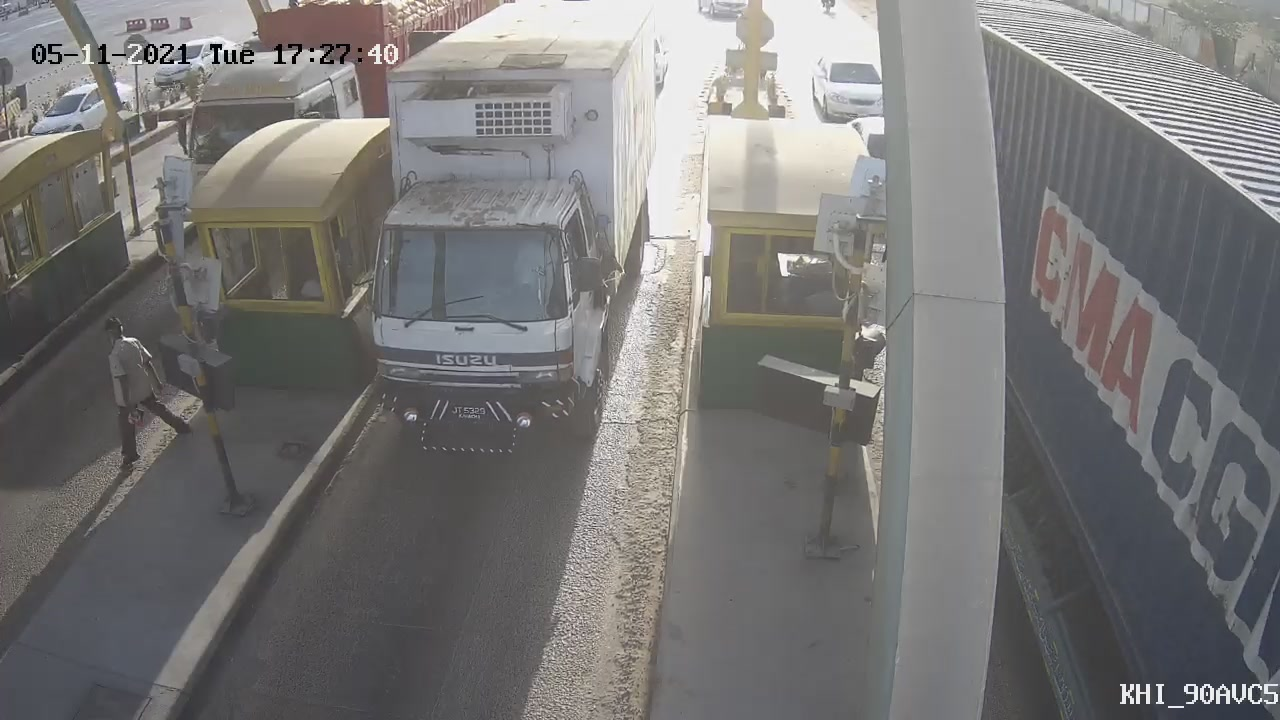F5: (304, 1, 687, 490)
